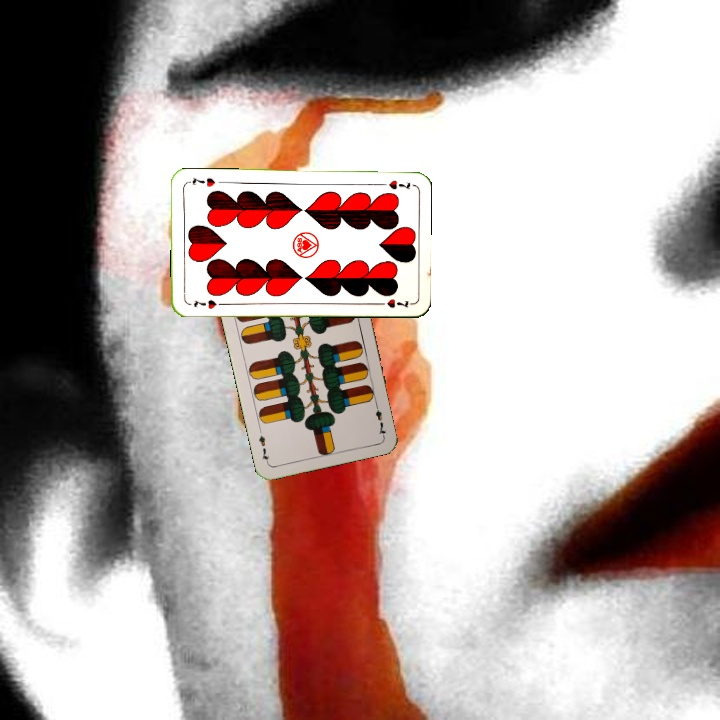E7: (371, 398, 388, 438)
H7: (374, 176, 413, 192), (190, 296, 226, 311)
